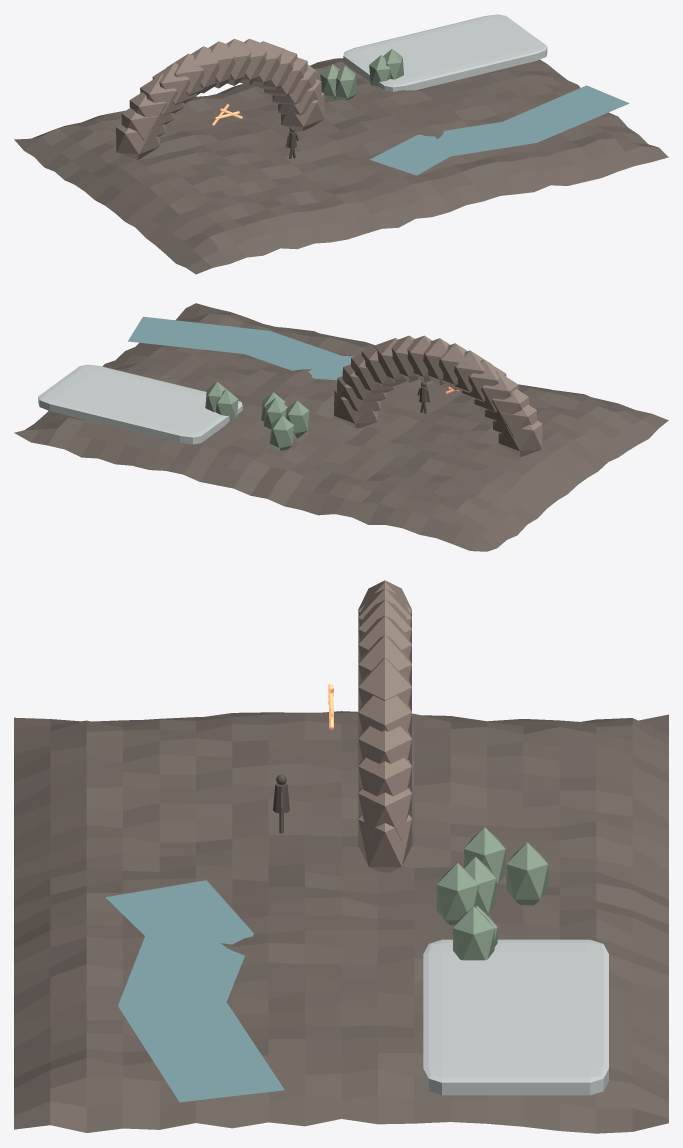
File: world-05-symbols.glb
3 views of the same model, one above another, from view 1: azimuth 30°, elevation 25°; view 2: azimuth 150°, elevation 25°; view 3: azimuth 270°, elevation 25° (orthographic). The views are drawn at different scales.
Parts seen in each view (by area): view 1: BH_WORLD_05_Terrain.003, BH_WORLD_05_Batch_01, Cold_Biome.003, BH_WORLD_05_Coast.003, BH_WORLD_05_Batch_06; view 2: BH_WORLD_05_Terrain.003, BH_WORLD_05_Batch_01, Cold_Biome.003, BH_WORLD_05_Coast.003, BH_WORLD_05_Batch_06; view 3: BH_WORLD_05_Terrain.003, Cold_Biome.003, BH_WORLD_05_Coast.003, BH_WORLD_05_Batch_01, BH_WORLD_05_Batch_06.
Boxes of the visible parts, left/top/right/bottom form: BH_WORLD_05_Terrain.003: left=14, top=58, right=668, bottom=274; BH_WORLD_05_Batch_01: left=116, top=38, right=324, bottom=159; Cold_Biome.003: left=343, top=14, right=547, bottom=91; BH_WORLD_05_Coast.003: left=369, top=85, right=629, bottom=175; BH_WORLD_05_Batch_06: left=307, top=49, right=403, bottom=100; BH_WORLD_05_Terrain.003: left=14, top=303, right=668, bottom=551; BH_WORLD_05_Batch_01: left=334, top=335, right=542, bottom=456; Cold_Biome.003: left=38, top=364, right=242, bottom=444; BH_WORLD_05_Coast.003: left=128, top=316, right=354, bottom=380; BH_WORLD_05_Batch_06: left=205, top=381, right=309, bottom=450; BH_WORLD_05_Terrain.003: left=14, top=711, right=668, bottom=1133; Cold_Biome.003: left=423, top=939, right=608, bottom=1095; BH_WORLD_05_Coast.003: left=105, top=880, right=284, bottom=1102; BH_WORLD_05_Batch_01: left=358, top=580, right=411, bottom=872; BH_WORLD_05_Batch_06: left=436, top=827, right=548, bottom=960.
Size of the model in its own units: 18.27 by 4.77 by 12.
